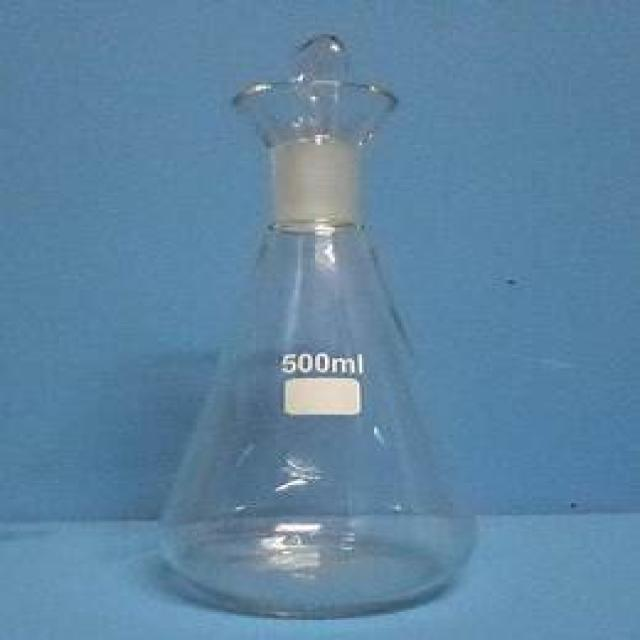Titrarion: (166, 63, 478, 609)
